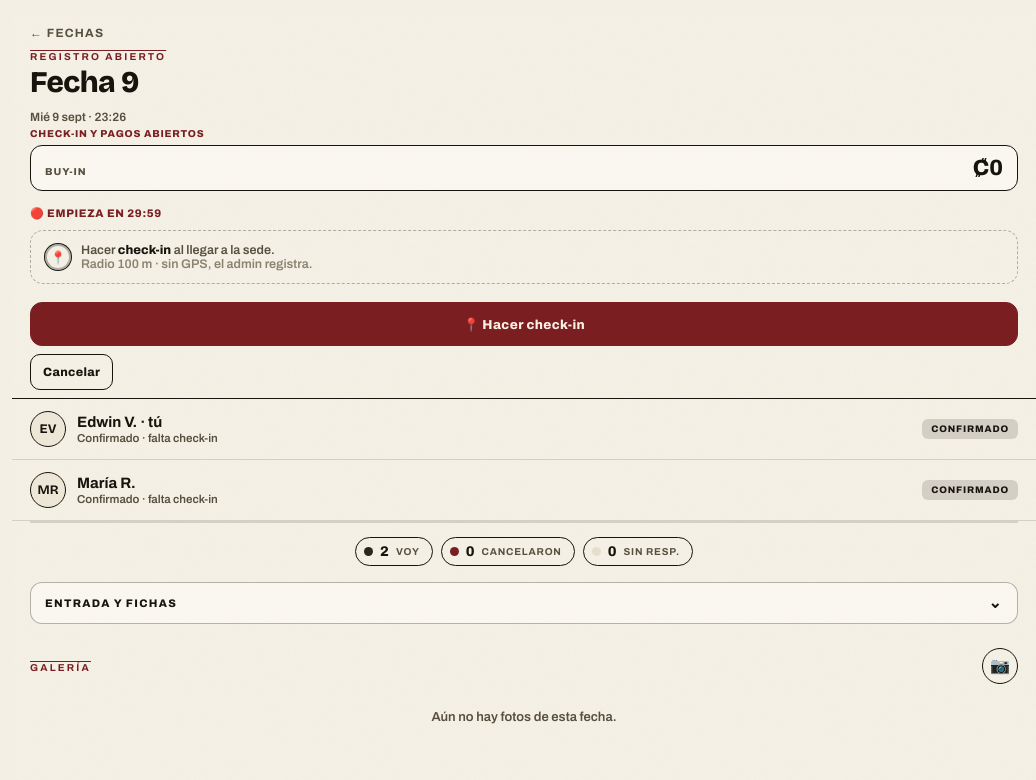
Test: FechaDetail — geofenced check-in › out-of-range: an "estás fuera de la sede" RPC error shows the warn banner
Expected: the heading "Fecha 9" is shown, top-left (30, 64), bottom-right (139, 100)
Click the button "📍 Hacer check-in" at (524,324), box top-left (30, 302), bottom-right (1018, 346)
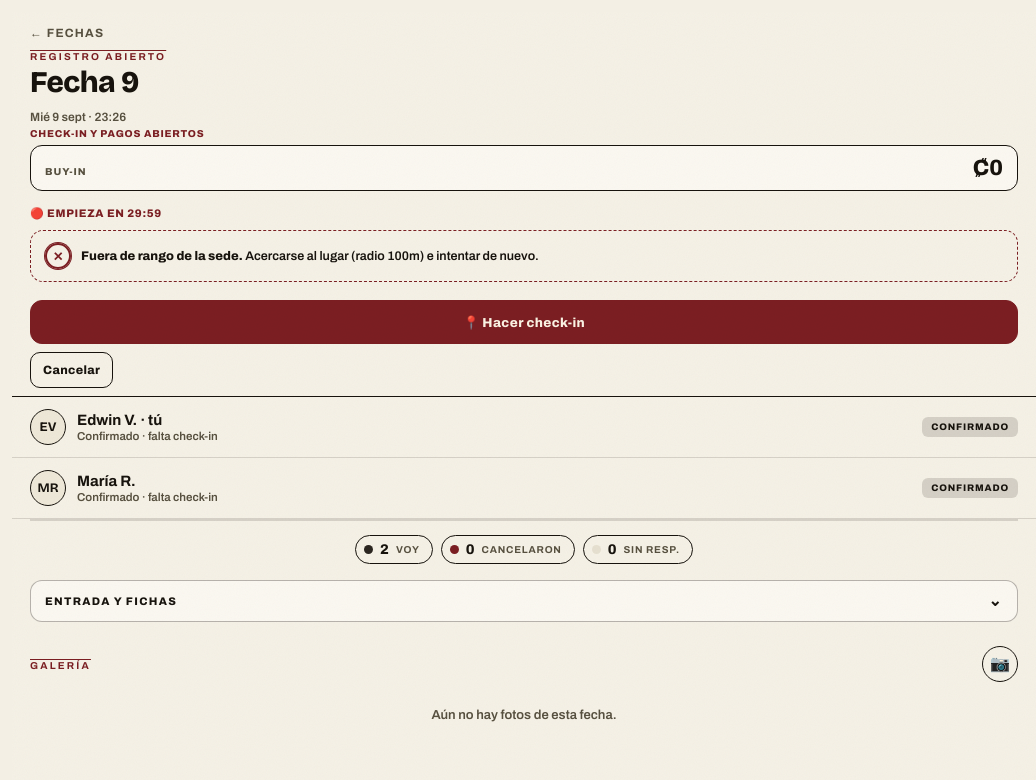
Expected: the message shows "Fuera de rango de la sede", top-left (81, 249), bottom-right (243, 263)
